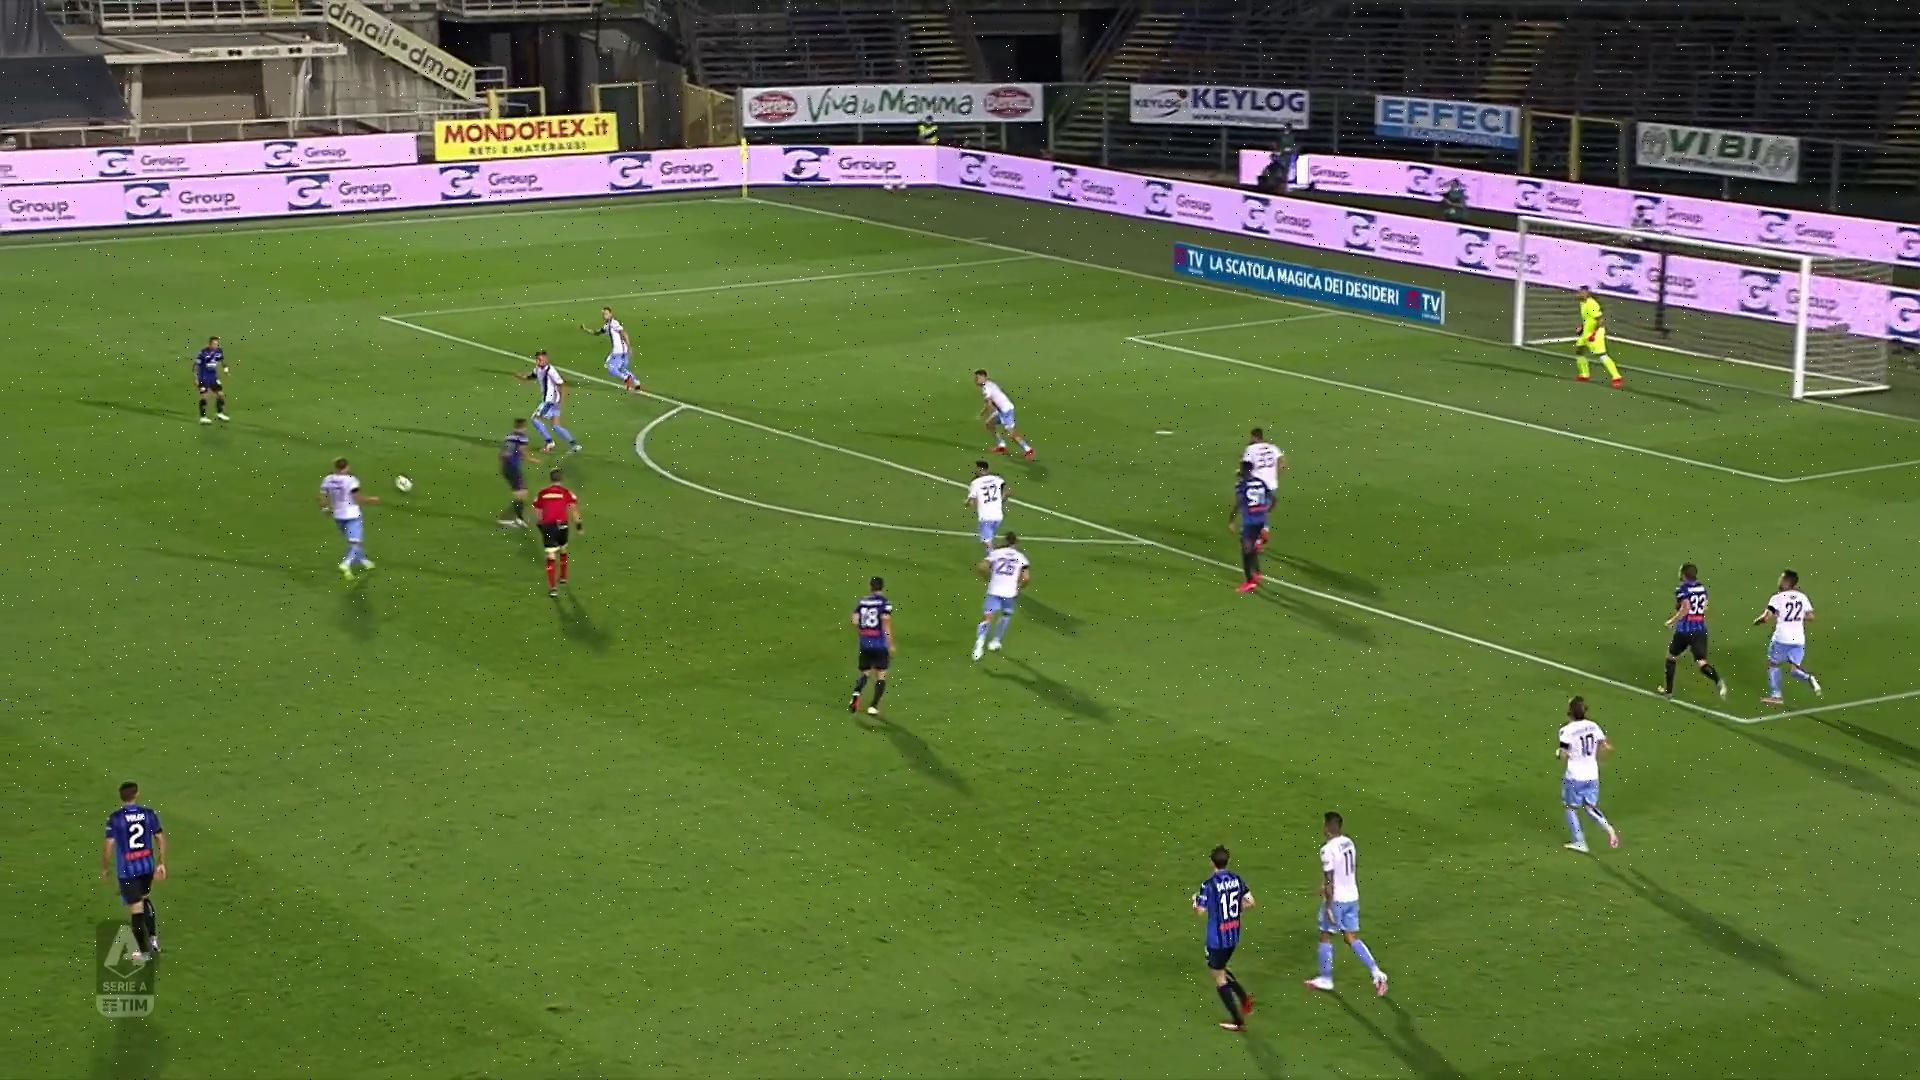ball: (397, 474, 414, 493)
